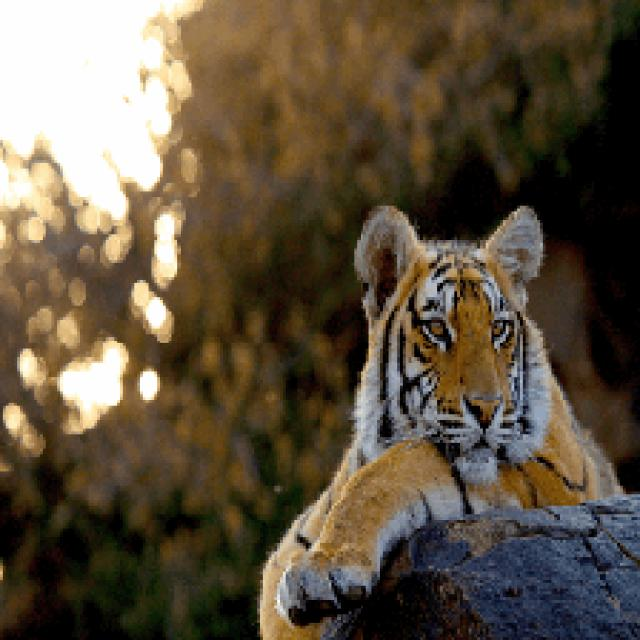tiger: (223, 196, 640, 640)
